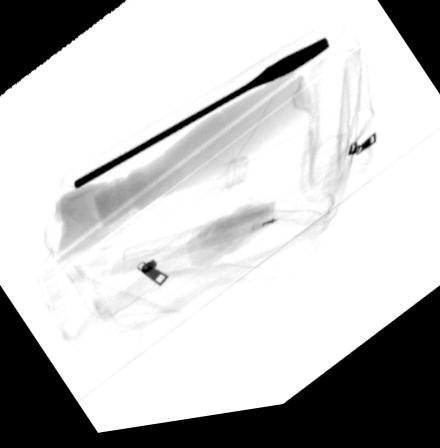Wrench: (71, 46, 331, 194)
